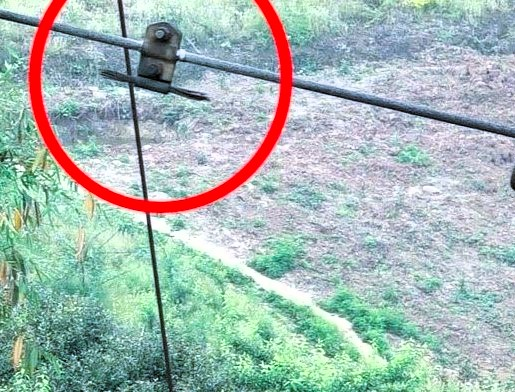Damage of shockproof hammer: (89, 15, 222, 108)
